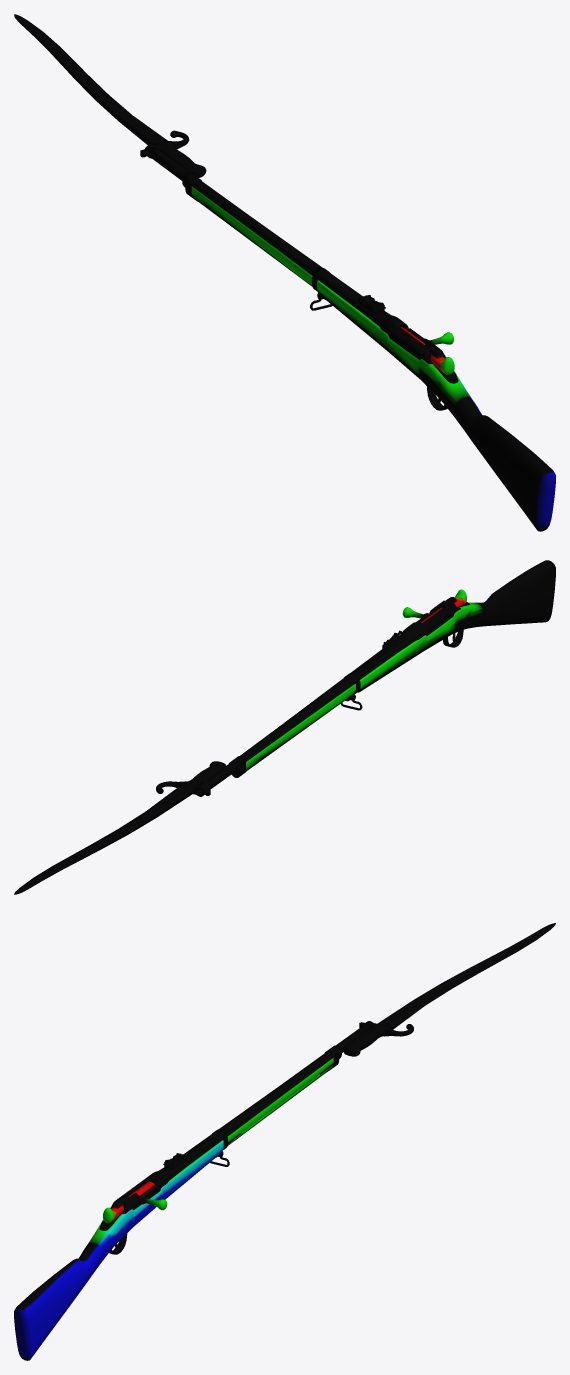
Rendered from Chassepot.fbx.
3 views of the same model, one above another, from view 1: azimuth 30°, elevation 25°; view 2: azimuth 150°, elevation 25°; view 3: azimuth 330°, elevation 25° (orthographic). The views are drawn at different scales.
Visible parts, largest first — view 1: L Chassepot; view 2: L Chassepot; view 3: L Chassepot.
Part boxes in pixels (<box>): L Chassepot: <box>14,14,555,531</box>; L Chassepot: <box>14,560,555,894</box>; L Chassepot: <box>14,923,555,1360</box>.
Bounding box in the file's own units: 78.22 × 1417 × 146.
